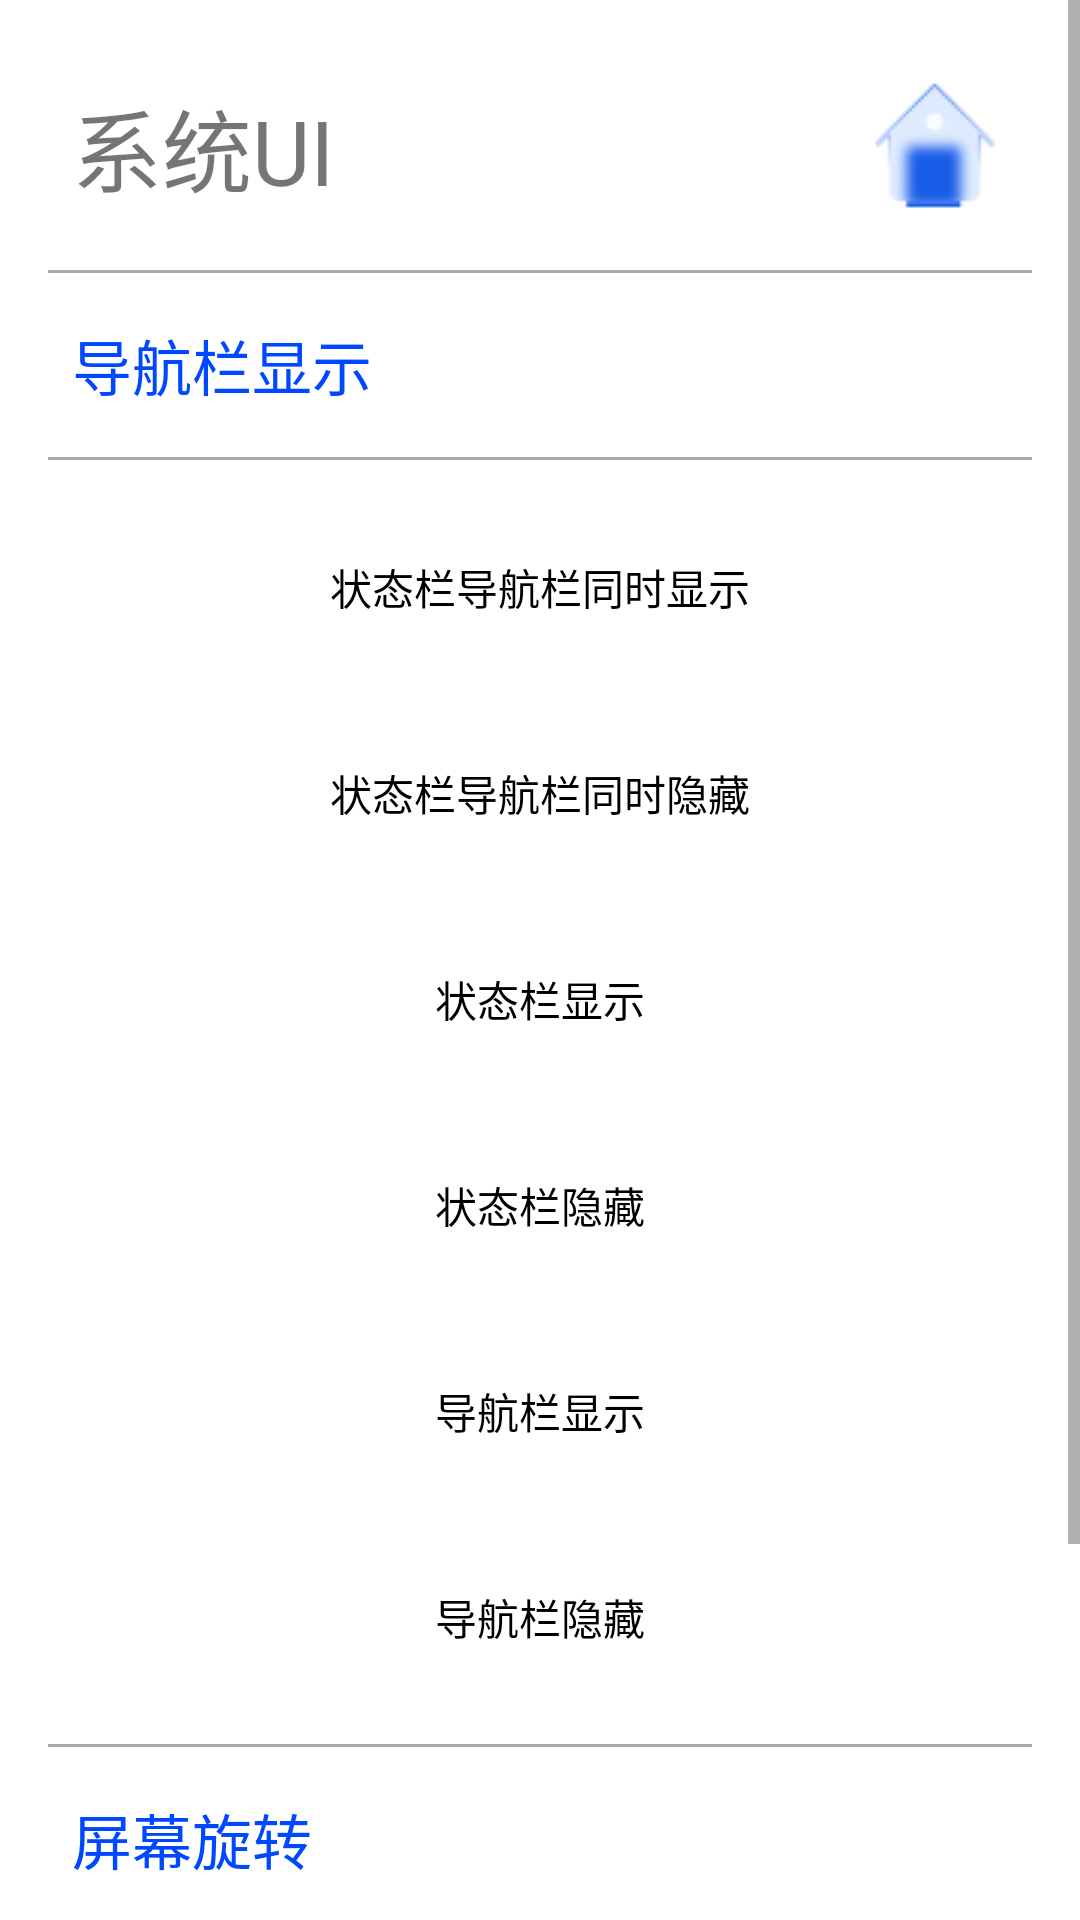

Icon click points for this 1080w x 1920h phone screenshot, format (x,y):
主界面: (935,145)
